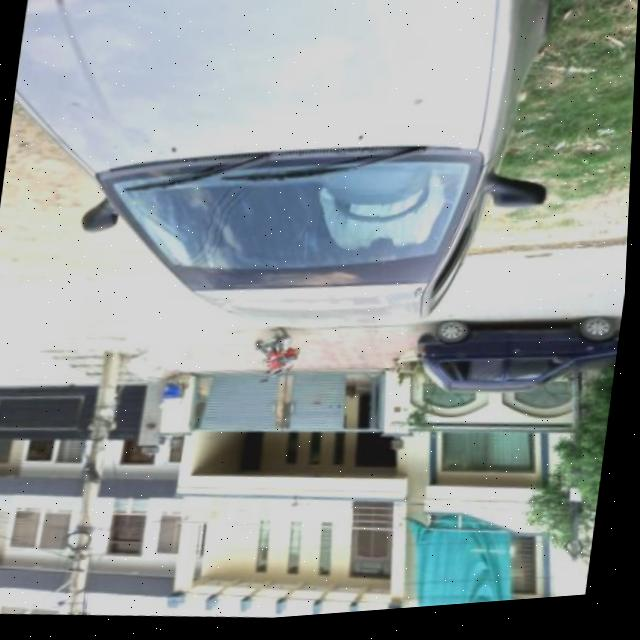no-seatbelt: (319, 187, 446, 253)
